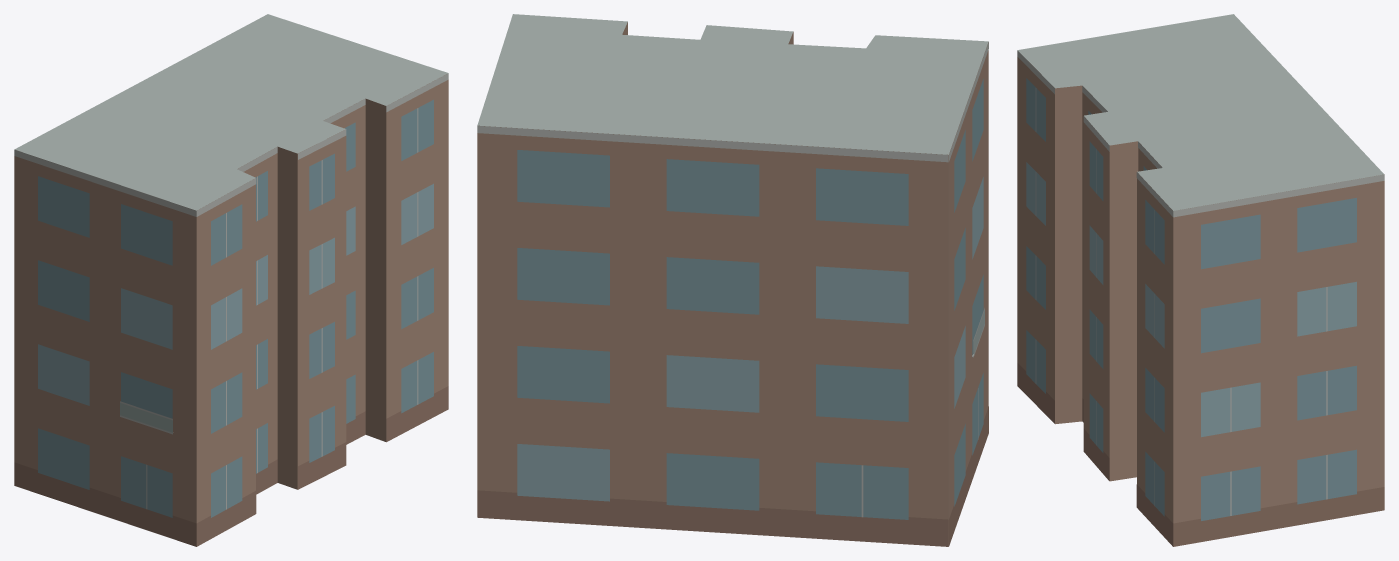
The model's file is survey-upis-32678779.glb.
The picture shows the model from 3 angles, left to right: view 1: azimuth 30°, elevation 25°; view 2: azimuth 150°, elevation 25°; view 3: azimuth 270°, elevation 25°; orthographic projection. The views are drawn at different scales.
Visible parts, largest first — view 1: survey-upis-32678779.tmp; view 2: survey-upis-32678779.tmp; view 3: survey-upis-32678779.tmp.
Boxes of the visible parts, <box> form: survey-upis-32678779.tmp: <box>14,14,448,546</box>; survey-upis-32678779.tmp: <box>477,14,988,546</box>; survey-upis-32678779.tmp: <box>1017,14,1384,546</box>.
Bounding box in the file's own units: 16.11 × 12.8 × 12.69.
